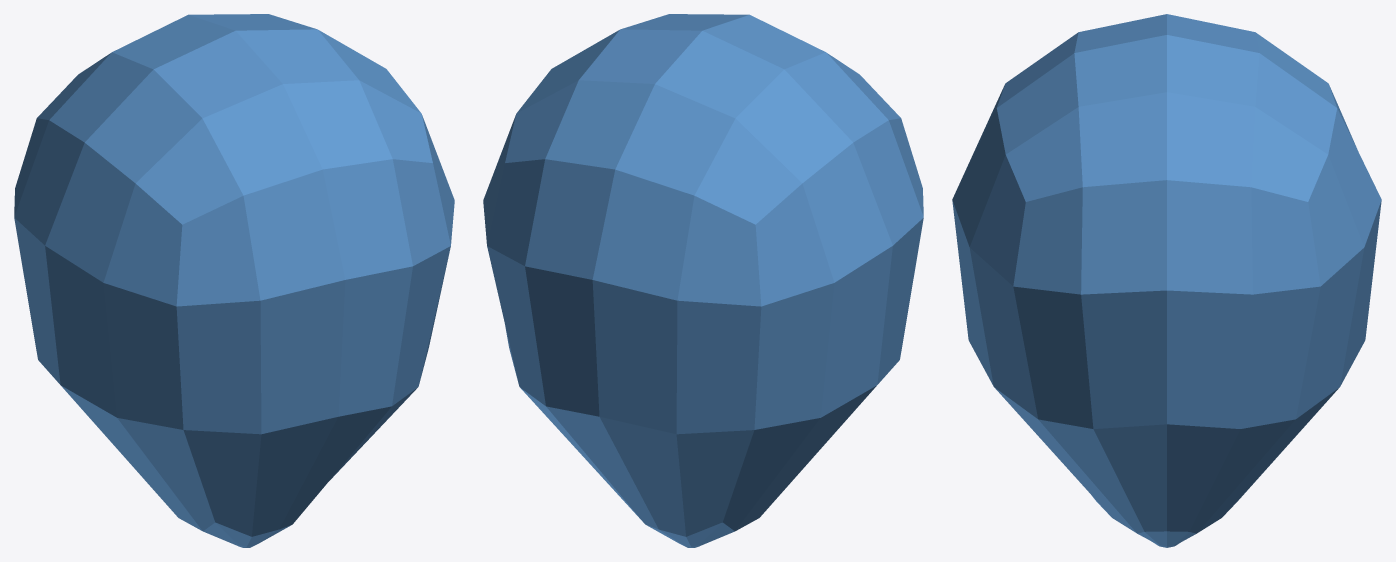
File: waterdrop.fbx
3 views of the same model, side by side, from view 1: azimuth 30°, elevation 25°; view 2: azimuth 150°, elevation 25°; view 3: azimuth 270°, elevation 25° (orthographic). The views are drawn at different scales.
Visible parts, largest first — view 1: WaterDrop; view 2: WaterDrop; view 3: WaterDrop.
Part boxes in pixels (box(x1,y1,x2,y2)): WaterDrop: box(14, 14, 454, 547); WaterDrop: box(483, 14, 923, 547); WaterDrop: box(952, 14, 1381, 547).
Bounding box in the file's own units: 11.85 × 15.41 × 11.85.
